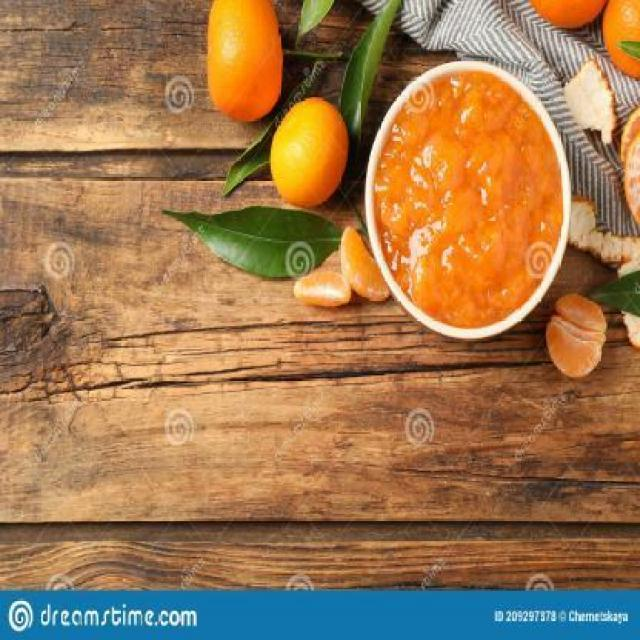Jeruk Sudah Matang: (207, 0, 281, 123), (270, 98, 347, 211), (600, 0, 640, 80)
